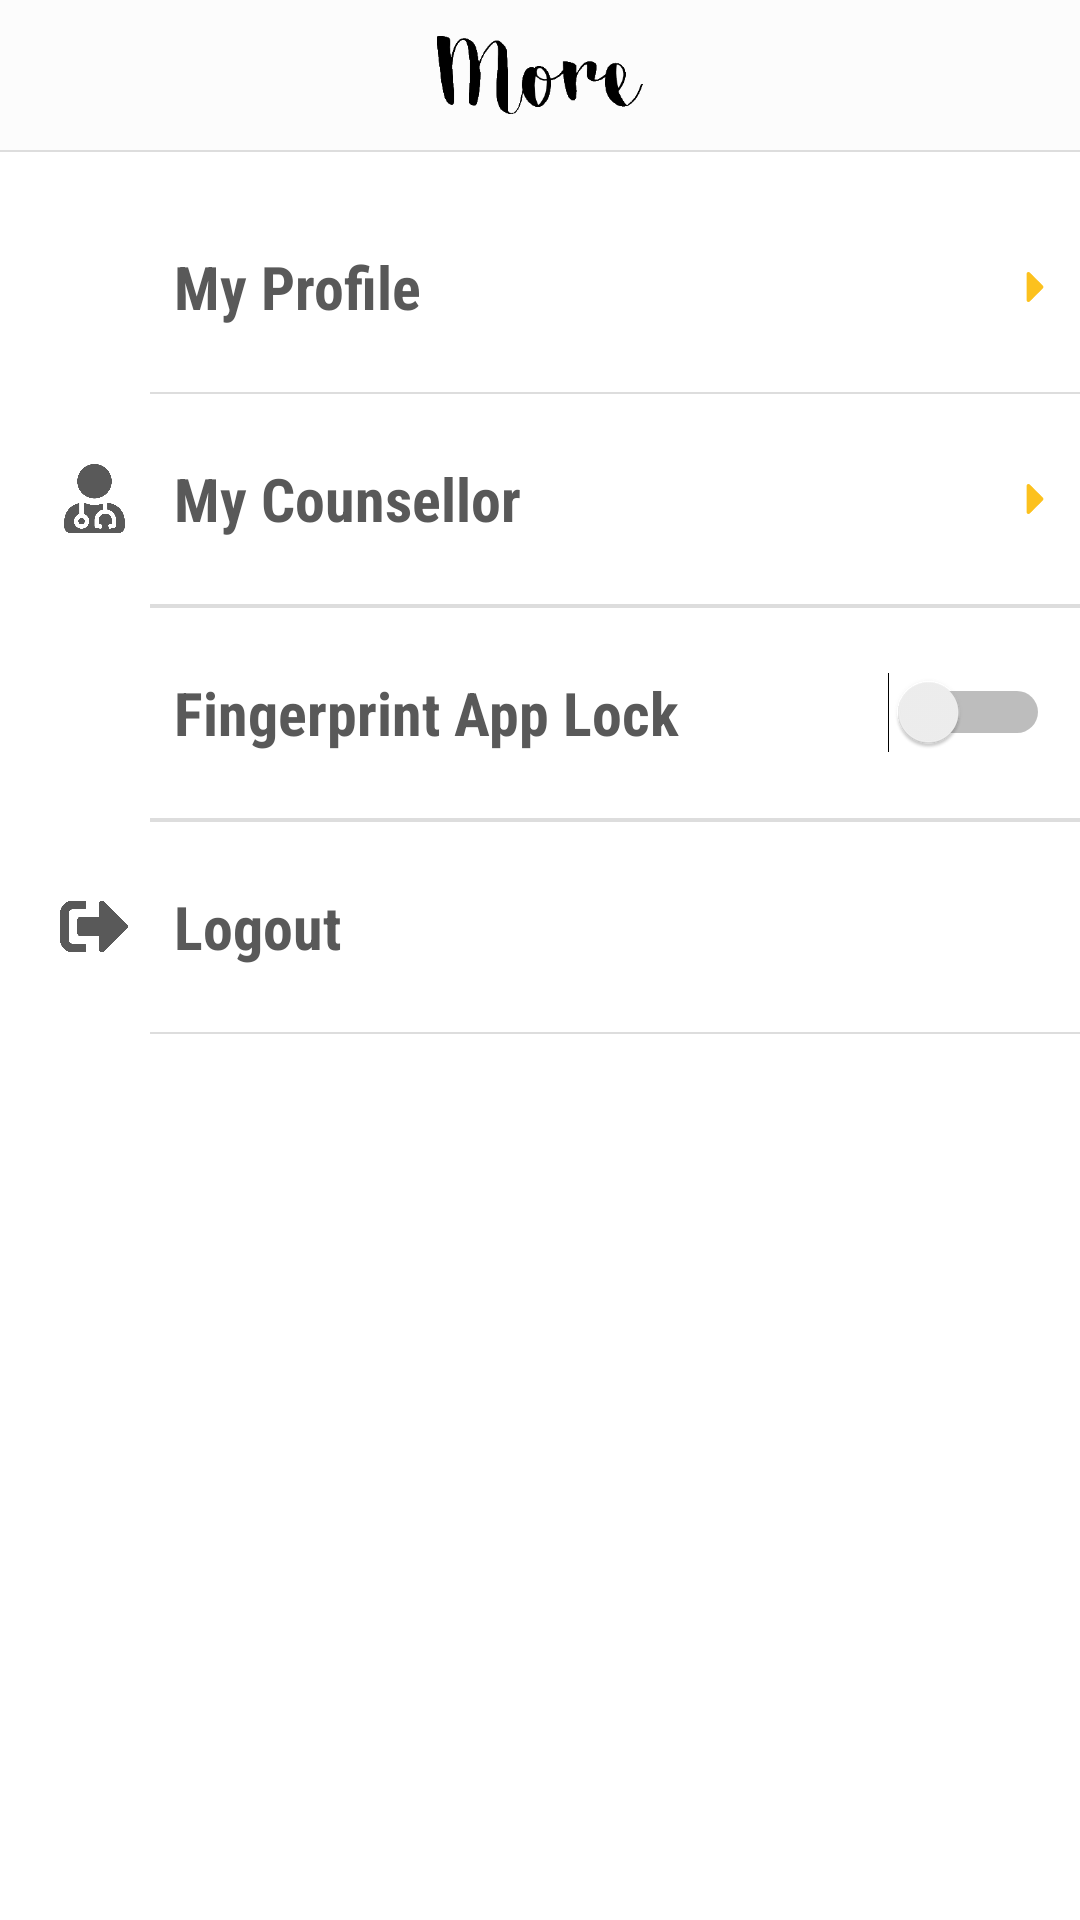

Icon bounding boxes for this 1080px×1920px phone screenshot, format (x1, y1, x2, y2):
arrowright: (1026, 272, 1044, 302), (1026, 484, 1044, 514)
